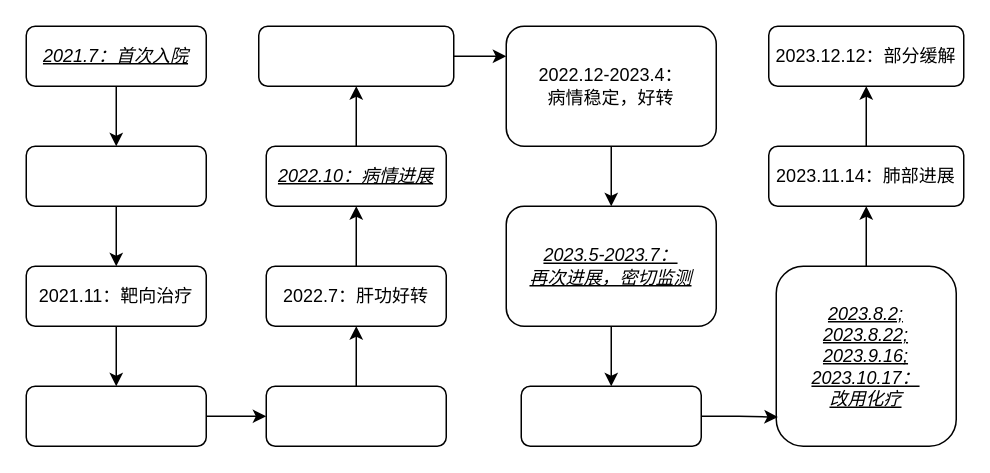
Image size: 990x473. Some labels were removed from this diagram. The box of each missing label's shape, as (x1, y1, x2, y2) in pixels:
2021.12：保肝药物: (25, 385, 206, 446)
2021.9：明确: (25, 145, 206, 206)
2022.11：颅内病灶减少: (257, 25, 454, 86)
2022.3：部分缓解: (265, 385, 446, 446)
2023.7.18：穿刺活检: (520, 385, 701, 446)
